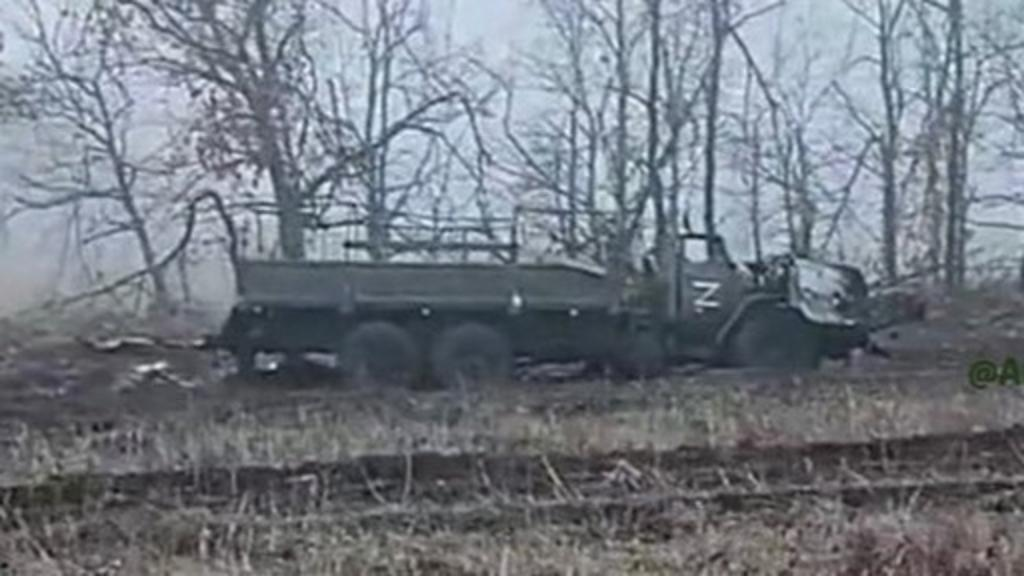TRUCK: (218, 192, 870, 396)
